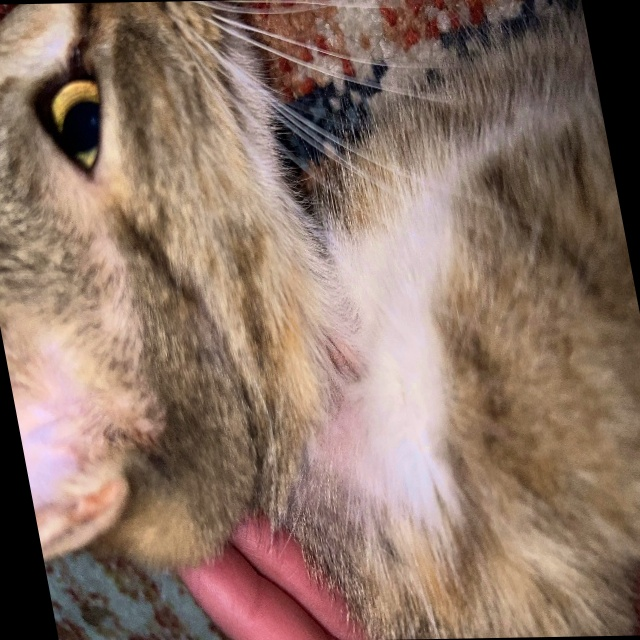hairloss: (277, 309, 395, 517)
